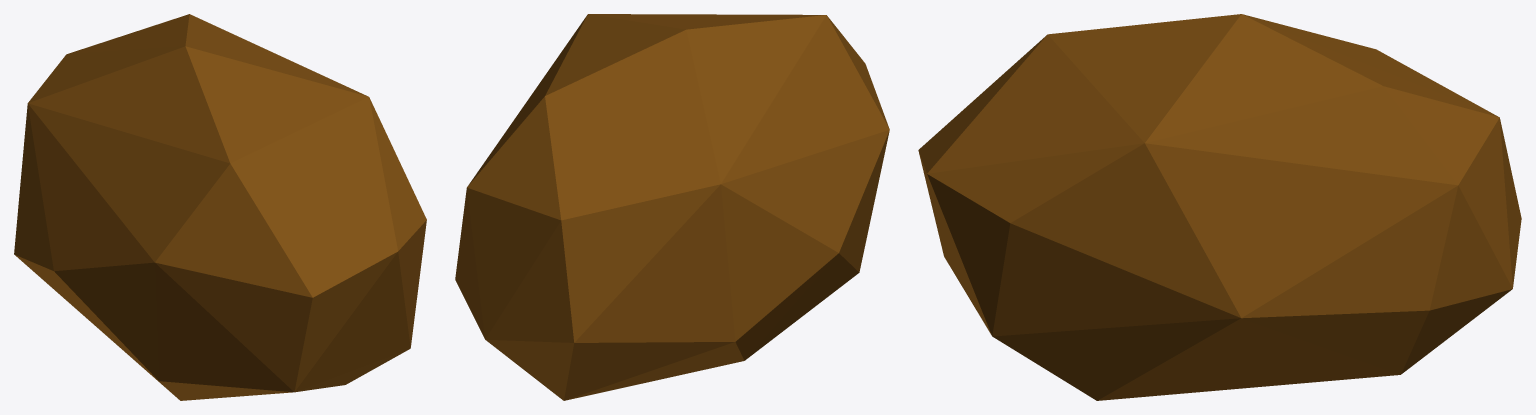
Rendered from Rock.fbx.
3 renders of one model, left to right at view 1: azimuth 30°, elevation 25°; view 2: azimuth 150°, elevation 25°; view 3: azimuth 270°, elevation 25°, orthographic. The views are drawn at different scales.
Visible parts, largest first — view 1: Rock; view 2: Rock; view 3: Rock.
Part boxes in pixels (left/top/right/bottom): Rock: left=14, top=14, right=426, bottom=400; Rock: left=455, top=14, right=889, bottom=400; Rock: left=918, top=14, right=1521, bottom=400.
Bounding box in the file's own units: 83.04 × 81.34 × 125.
